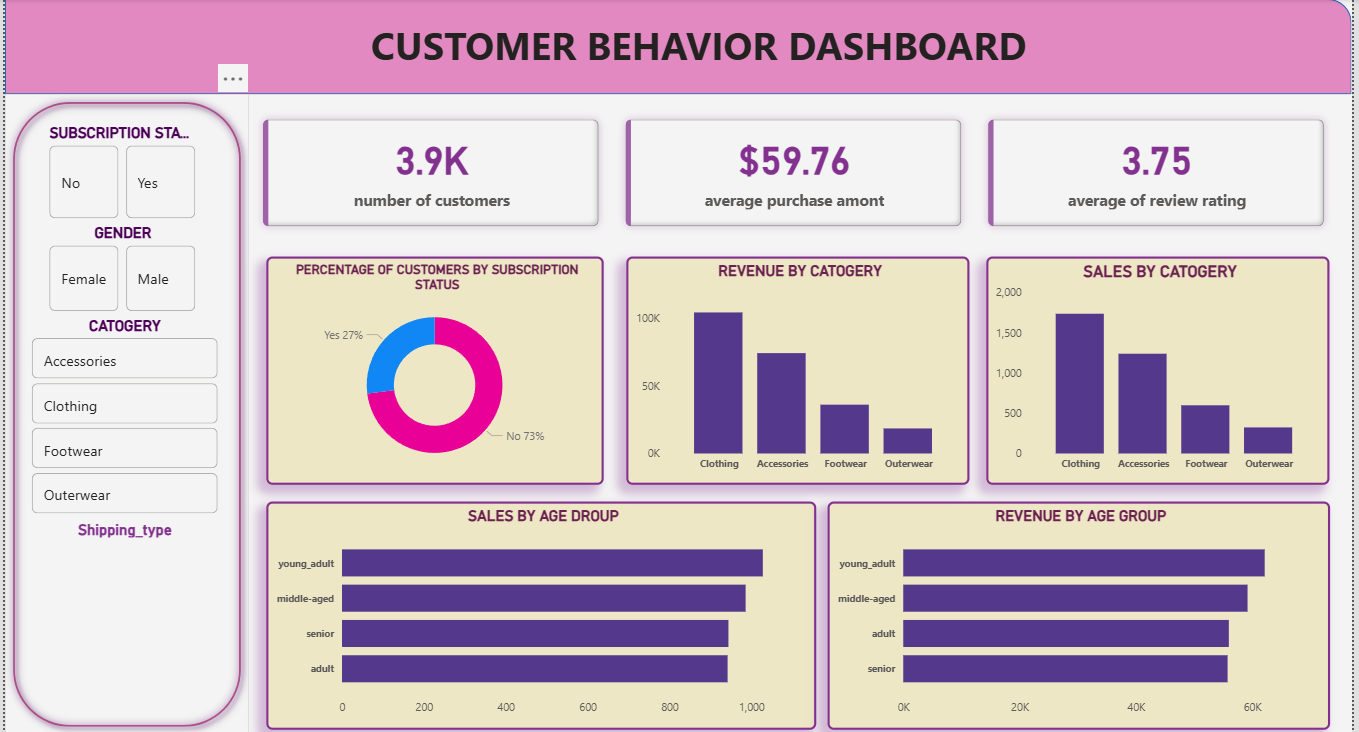

The page's visual inventory and layout, read from the dashboard file:
{"tool":"powerbi","page":{"name":"Page 1","canvas":[1500,820],"ordinal":0},"visuals":[{"type":"cardVisual","fields":{"Data":["public customer.number of customers","public customer.average purchase amont","public customer.average of review rating"]},"box":[271.8,119,1215.7,151.2],"z":0},{"type":"shape","box":[0,0,1500.3,106.1],"z":1000},{"type":"textbox","box":[131.9,16.1,1281.6,90.1],"z":2000},{"type":"donutChart","title":"PERCENTAGE OF CUSTOMERS BY SUBSCRIPTION STATUS","fields":{"Category":["public customer.subscription_status"],"Y":["CountNonNull(public customer.subscription_status)"]},"box":[291.1,286.2,376.3,254.1],"z":3000},{"type":"clusteredColumnChart","title":"REVENUE BY CATOGERY","fields":{"Y":["Sum(public customer.purchase_amount)"],"Category":["public customer.category"]},"box":[691.5,286.2,382.7,254.1],"z":3001},{"type":"clusteredColumnChart","title":"SALES BY CATOGERY","fields":{"Y":["CountNonNull(public customer.customer_id)"],"Category":["public customer.category"]},"box":[1093.5,286.2,382.7,254.1],"z":3002},{"type":"shape","box":[0,106.1,271.8,714],"z":3003},{"type":"advancedSlicerVisual","title":"SUBSCRIPTION STATUS","fields":{"Values":["public customer.subscription_status"]},"box":[45,139.9,173.7,111],"z":3004},{"type":"advancedSlicerVisual","title":"GENDER","fields":{"Values":["public customer.gender"]},"box":[45,250.9,173.7,102.9],"z":3005},{"type":"advancedSlicerVisual","title":"CATOGERY","fields":{"Values":["public customer.category"]},"box":[25.7,353.8,217.1,226.7],"z":3006},{"type":"listSlicer","title":"Shipping_type","fields":{"Values":["public customer.shipping_type"]},"box":[25.7,580.5,217.1,212.3],"z":3007},{"type":"clusteredBarChart","title":"SALES BY AGE DROUP","fields":{"Category":["public customer.age_group"],"Y":["CountNonNull(public customer.purchase_amount)"]},"box":[291.1,559.6,612.7,254.1],"z":3008},{"type":"clusteredBarChart","title":"REVENUE BY AGE GROUP","fields":{"Category":["public customer.age_group"],"Y":["Sum(public customer.purchase_amount)"]},"box":[916.6,559.6,559.6,254.1],"z":3009}]}

Visuals, with their boxes in screenshot pixels (x1, y1, x2, y2), scaled from the page's 1500x820 canvas onto the 1359x732 screenshot:
cardVisual - public customer.number of customers x public customer.average purchase amont: [246, 106, 1348, 241]
shape: [0, 0, 1358, 95]
textbox: [120, 14, 1281, 95]
"PERCENTAGE OF CUSTOMERS BY SUBSCRIPTION STATUS" donutChart: [264, 255, 605, 482]
"REVENUE BY CATOGERY" clusteredColumnChart: [626, 255, 973, 482]
"SALES BY CATOGERY" clusteredColumnChart: [991, 255, 1337, 482]
shape: [0, 95, 246, 731]
"SUBSCRIPTION STATUS" advancedSlicerVisual: [41, 125, 198, 224]
"GENDER" advancedSlicerVisual: [41, 224, 198, 316]
"CATOGERY" advancedSlicerVisual: [23, 316, 220, 518]
"Shipping_type" listSlicer: [23, 518, 220, 708]
"SALES BY AGE DROUP" clusteredBarChart: [264, 500, 819, 726]
"REVENUE BY AGE GROUP" clusteredBarChart: [830, 500, 1337, 726]
